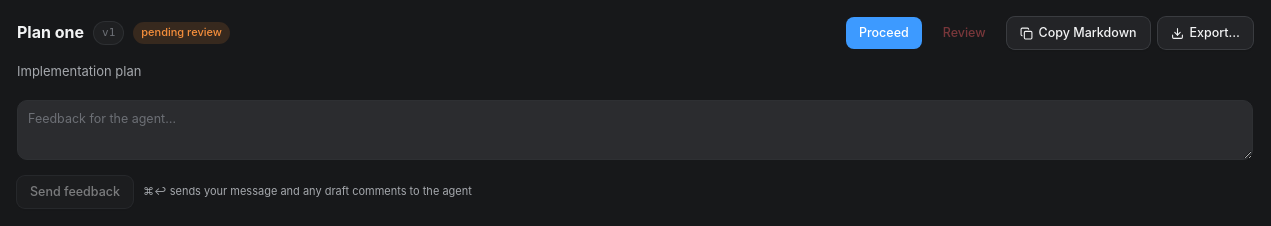
ArtifactViewer plan resolution feedback › shows Feedback sent only after a successful review request
Type "Please tighten the tests" into the text box with placeholder "Feedback for the agent…".
click(635, 130); type("Please tighten the tests")  # box [17,100,1253,160]
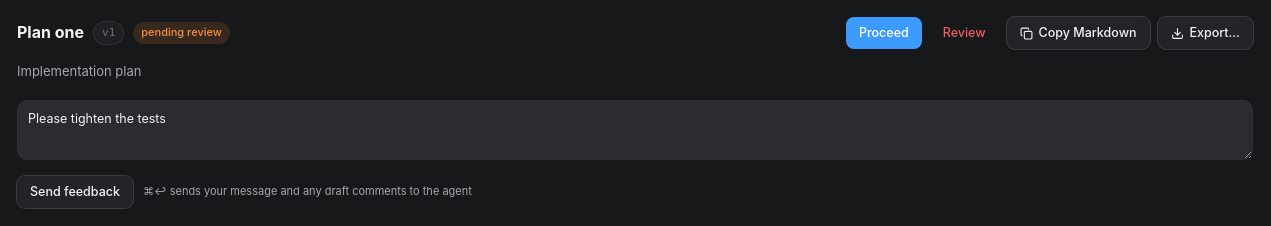
Click the button "Review".
click(964, 33)  # box [930,17,999,49]
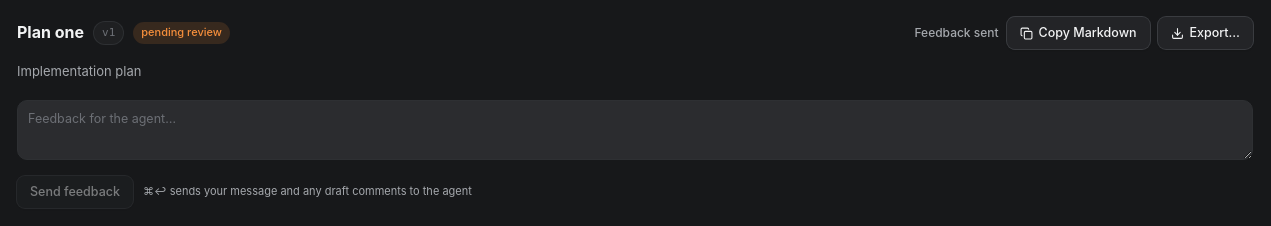
Now the message reads "Feedback sent", box [914,25,999,40]
